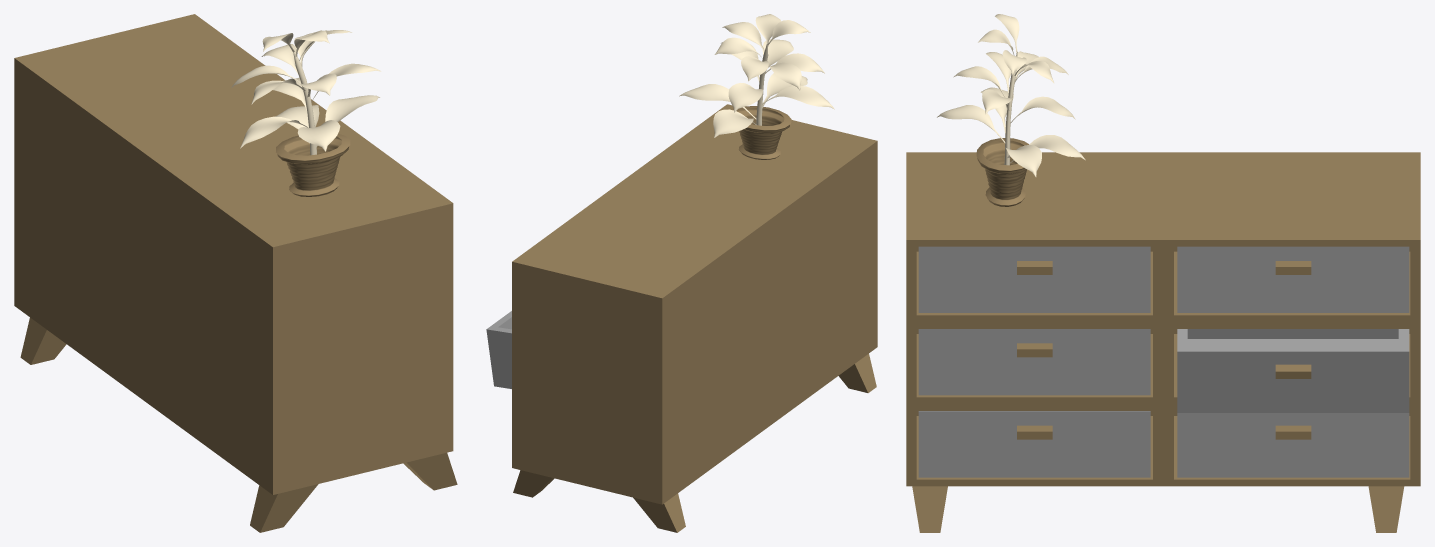
The model's file is M_Cajonero.fbx.
3 renders of one model, left to right at view 1: azimuth 30°, elevation 25°; view 2: azimuth 150°, elevation 25°; view 3: azimuth 270°, elevation 25°, orthographic. The views are drawn at different scales.
Parts seen in each view (by area): view 1: Mueble_Aux_Sala, Planta_matera3materasrubberPlantPotted1Leaf, Planta3, Pata1 (×2), Pata, rubberPlantPotted1MainPlanta_matera3materas; view 2: Mueble_Aux_Sala, Planta_matera3materasrubberPlantPotted1Leaf, Planta3, Pata (×2), pCube31, Pata1; view 3: Mueble_Aux_Sala, pCube31, pCube27, pCube30, pCube29, pCube28, pCube32, Planta_matera3materasrubberPlantPotted1Leaf, Planta3, Pata, Pata1.
Boxes of the visible parts, x1=… form: Mueble_Aux_Sala: x1=14, y1=14, x2=453, y2=494; Planta_matera3materasrubberPlantPotted1Leaf: x1=231, y1=30, x2=381, y2=151; Planta3: x1=276, y1=134, x2=350, y2=196; Pata1 (×2): x1=20, y1=317, x2=457, y2=490; Pata: x1=250, y1=484, x2=318, y2=532; rubberPlantPotted1MainPlanta_matera3materas: x1=293, y1=49, x2=316, y2=155; Mueble_Aux_Sala: x1=512, y1=104, x2=877, y2=504; Planta_matera3materasrubberPlantPotted1Leaf: x1=679, y1=14, x2=834, y2=137; Planta3: x1=733, y1=106, x2=791, y2=159; Pata (×2): x1=513, y1=354, x2=876, y2=497; pCube31: x1=486, y1=311, x2=511, y2=388; Pata1: x1=633, y1=493, x2=685, y2=532; Mueble_Aux_Sala: x1=906, y1=152, x2=1420, y2=486; pCube31: x1=1177, y1=329, x2=1409, y2=412; pCube27: x1=918, y1=411, x2=1150, y2=477; pCube30: x1=1177, y1=246, x2=1409, y2=312; pCube29: x1=918, y1=246, x2=1150, y2=312; pCube28: x1=918, y1=329, x2=1150, y2=395; pCube32: x1=1177, y1=413, x2=1409, y2=477; Planta_matera3materasrubberPlantPotted1Leaf: x1=937, y1=14, x2=1085, y2=176; Planta3: x1=976, y1=138, x2=1028, y2=206; Pata: x1=1368, y1=486, x2=1404, y2=532; Pata1: x1=912, y1=486, x2=947, y2=532.
Bounding box in the file's own units: 12.22 × 22.68 × 23.45.
